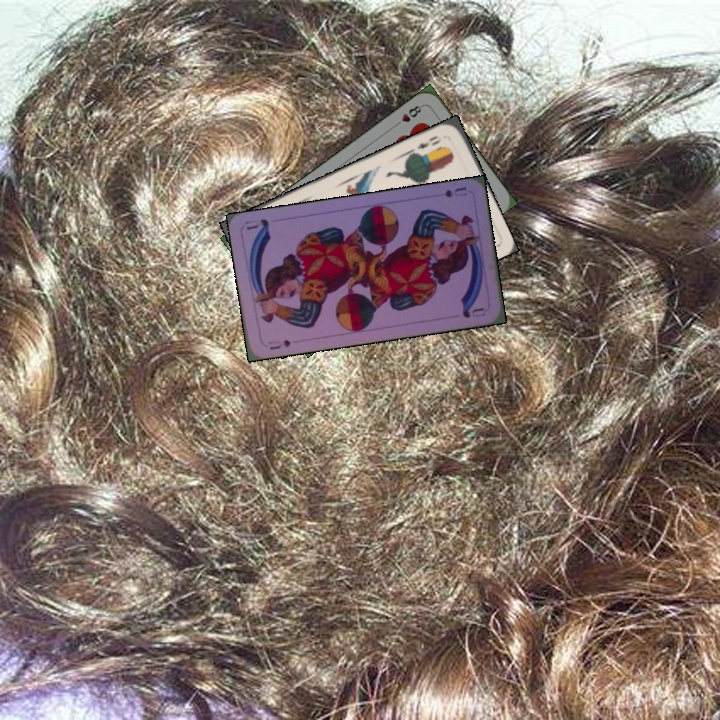EO: (413, 131, 444, 152)
H8: (390, 101, 426, 129)
SU: (441, 182, 469, 200), (265, 335, 293, 352)
